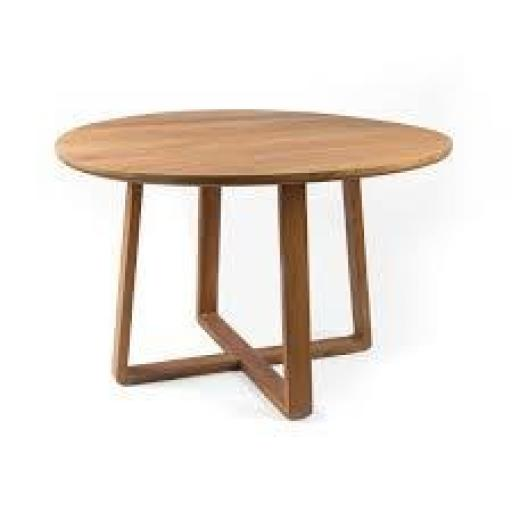table: (51, 106, 452, 404)
